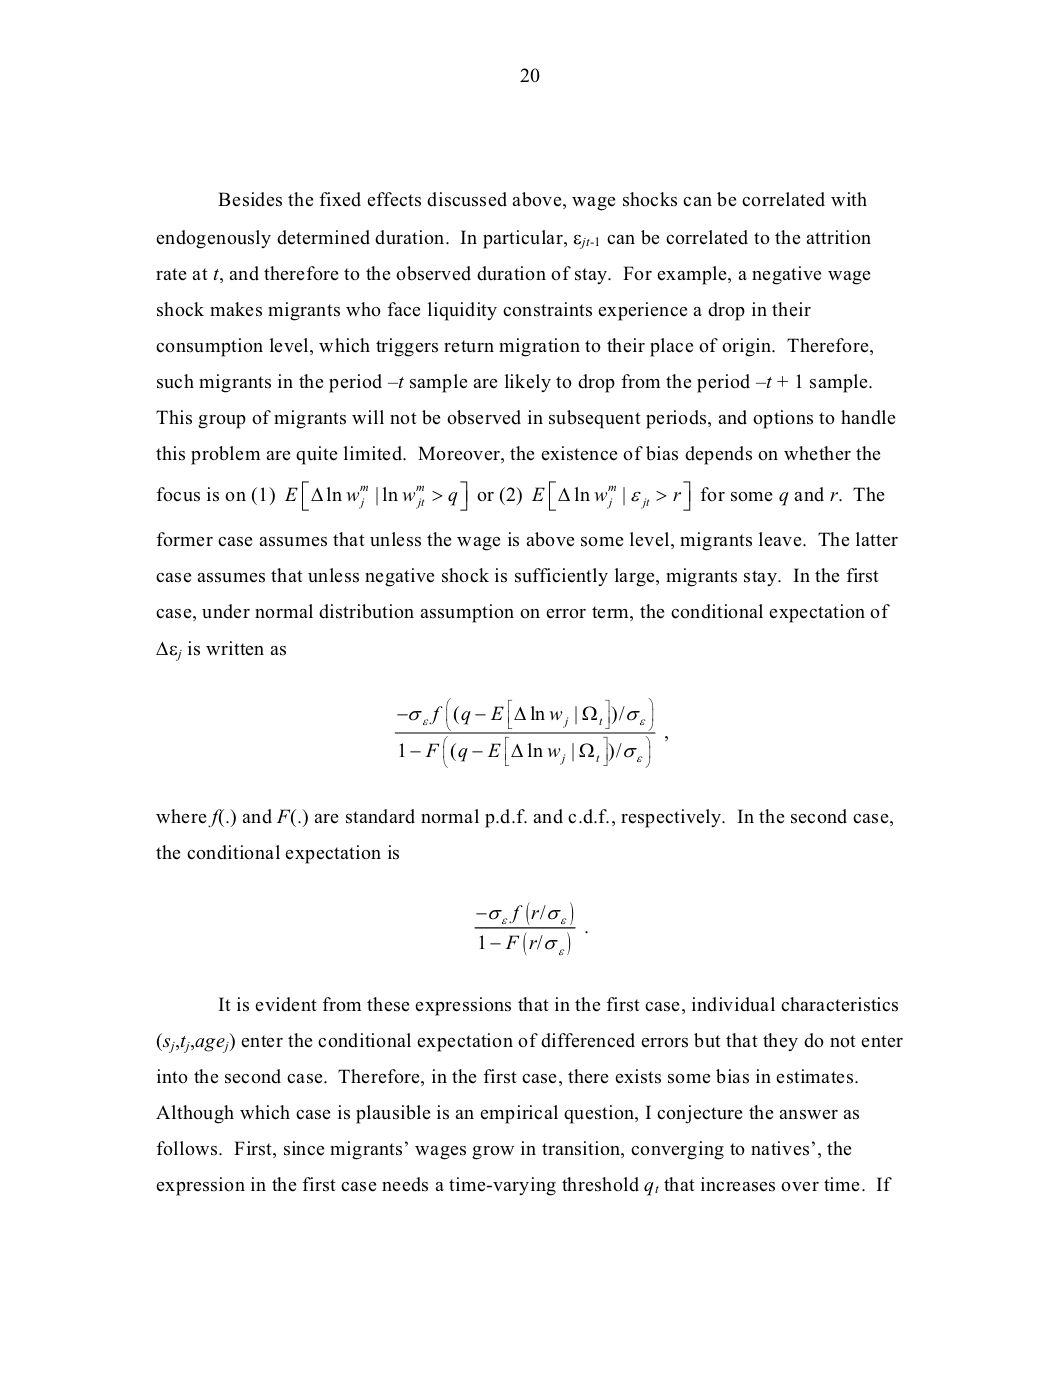formula: (395, 698, 666, 767), (474, 902, 587, 955)
